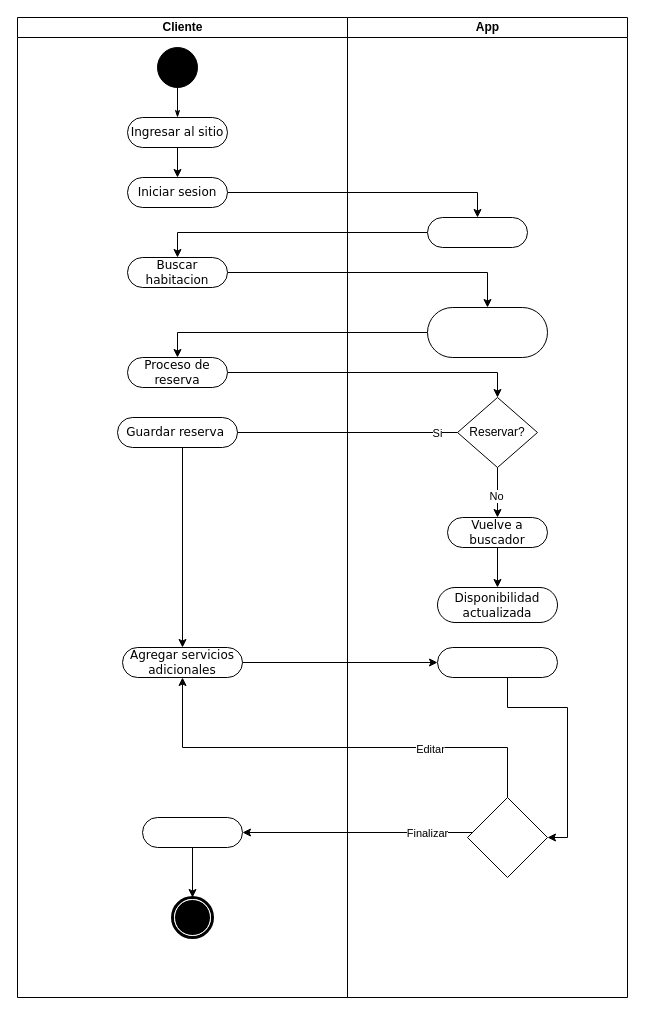
This 645x1015 diagram has some shape labels left out. The centre of each missing label's shape, as x and y in pixels:
Editar o finalizar: (507,837)
Muestra disponibilidad de habitaciones: (487,332)
Muestra servicios adicionales: (497,662)
Reservar: (192,832)
Verifica credenciales: (477,232)
